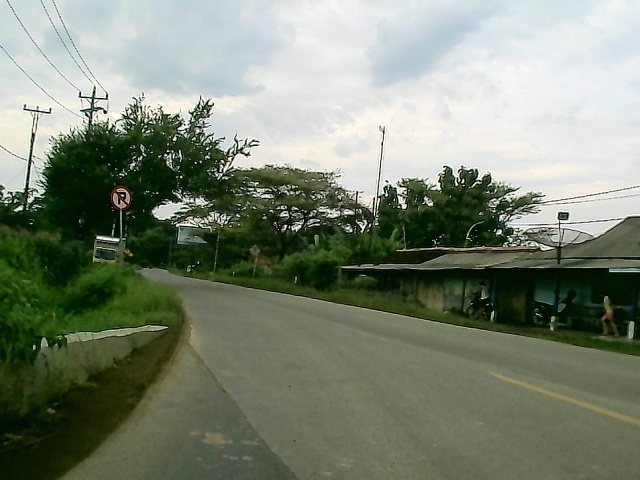Dilarang parkir: (107, 184, 134, 213)
